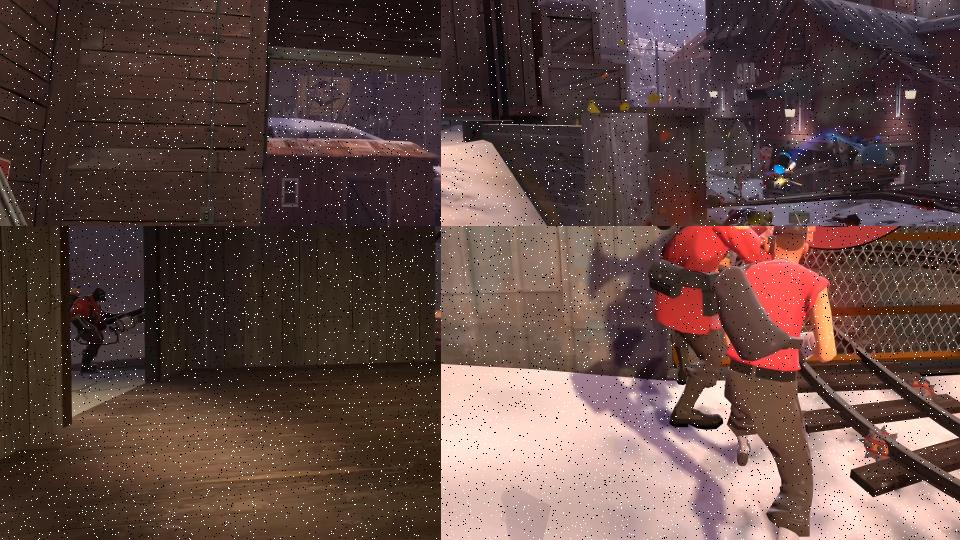Enemy: (711, 226, 838, 540), (648, 226, 843, 430), (69, 281, 147, 377), (774, 157, 797, 197), (734, 166, 750, 201)
